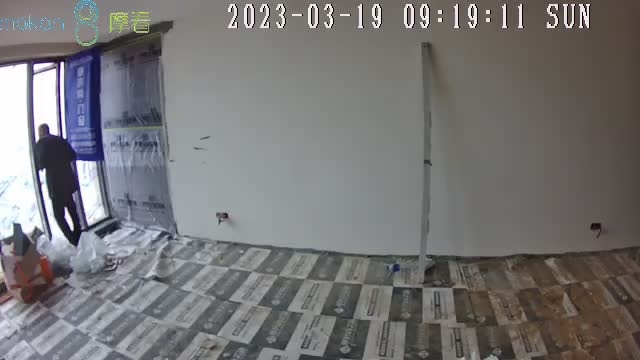people: (32, 122, 81, 247)
window: (1, 60, 112, 248)
